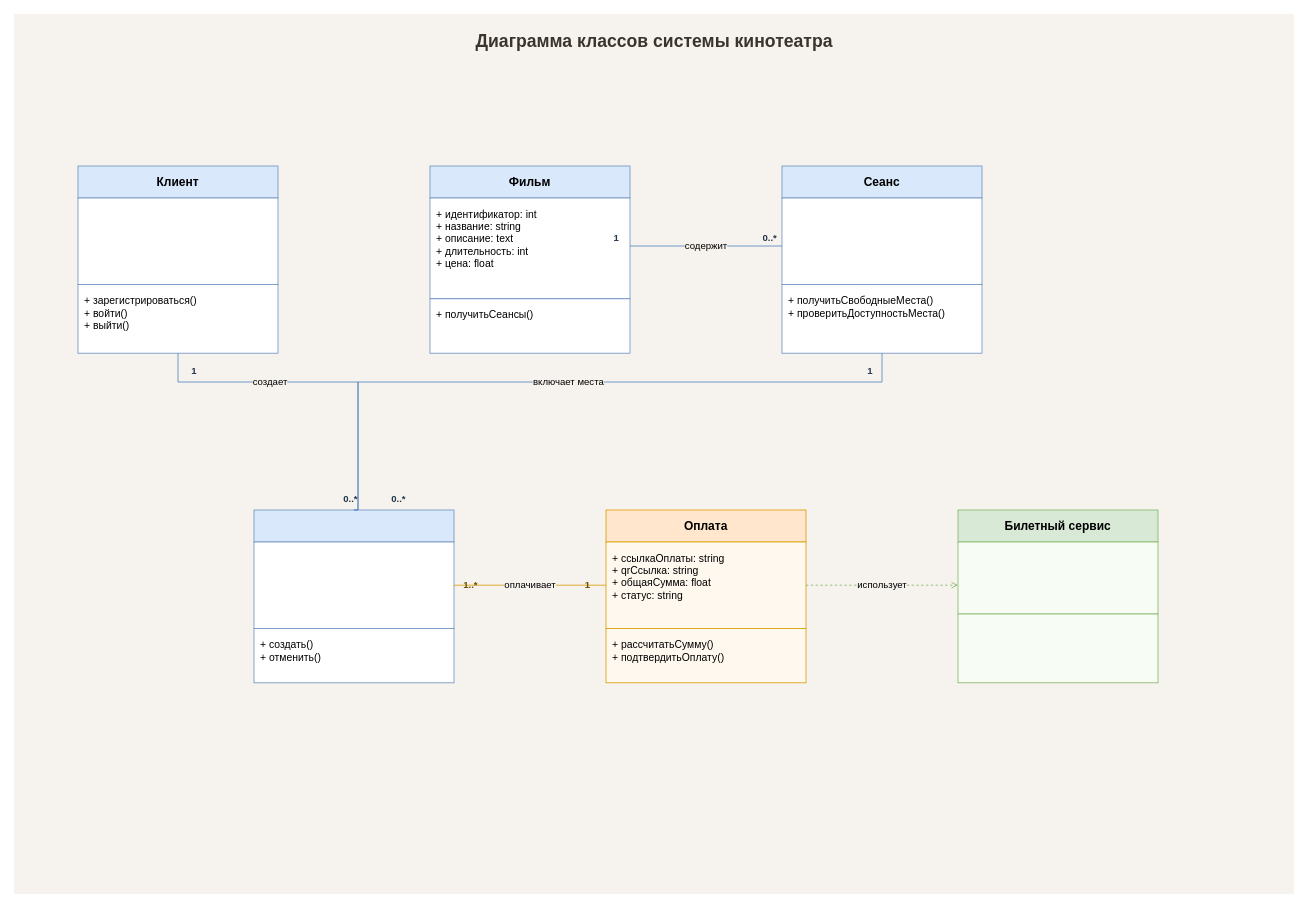
Image size: 1307x907. Some labels were removed from this diagram. Here are the shapes that lost their labels. From the top down, the centre of each, then its label:
At (177,240): "+ идентификатор: int + email: string + пароль: string + роль: string".
At (881,240): "+ идентификатор: int + датаСеанса: date + времяСеанса: time + зал: string".
At (353,525): "Бронь".
At (353,584): "+ идентификатор: int + ряд: int + место: int + датаБрони: datetime".
At (1057,577): "+ адресОтправителя: string + имяОтправителя: string".
At (1057,648): "+ отправитьБилет() + сформироватьКодБилета() + сформироватьПисьмо()".
